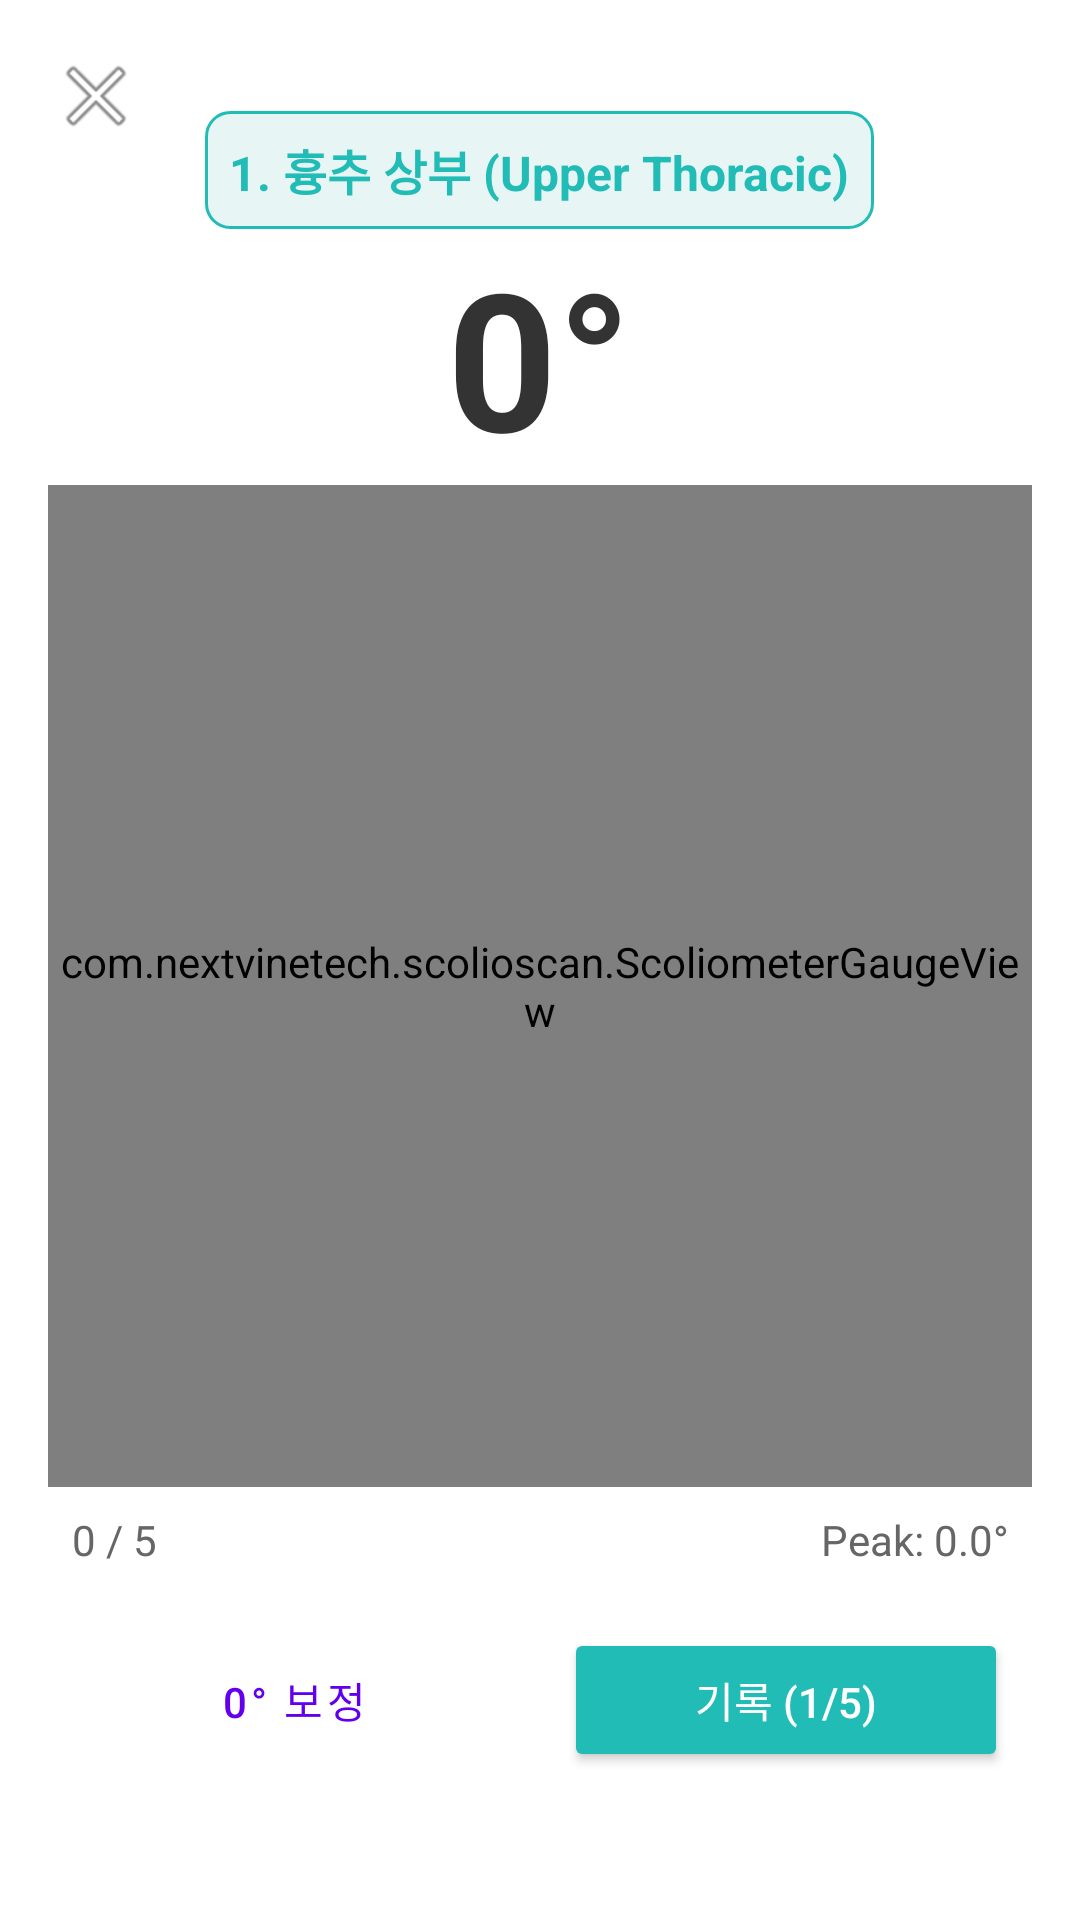

Icon bounding boxes for this 1080px×1920px phone screenshot, format BBox(x1, y1, x2, y2):
닫기: BBox(66, 66, 126, 126)
